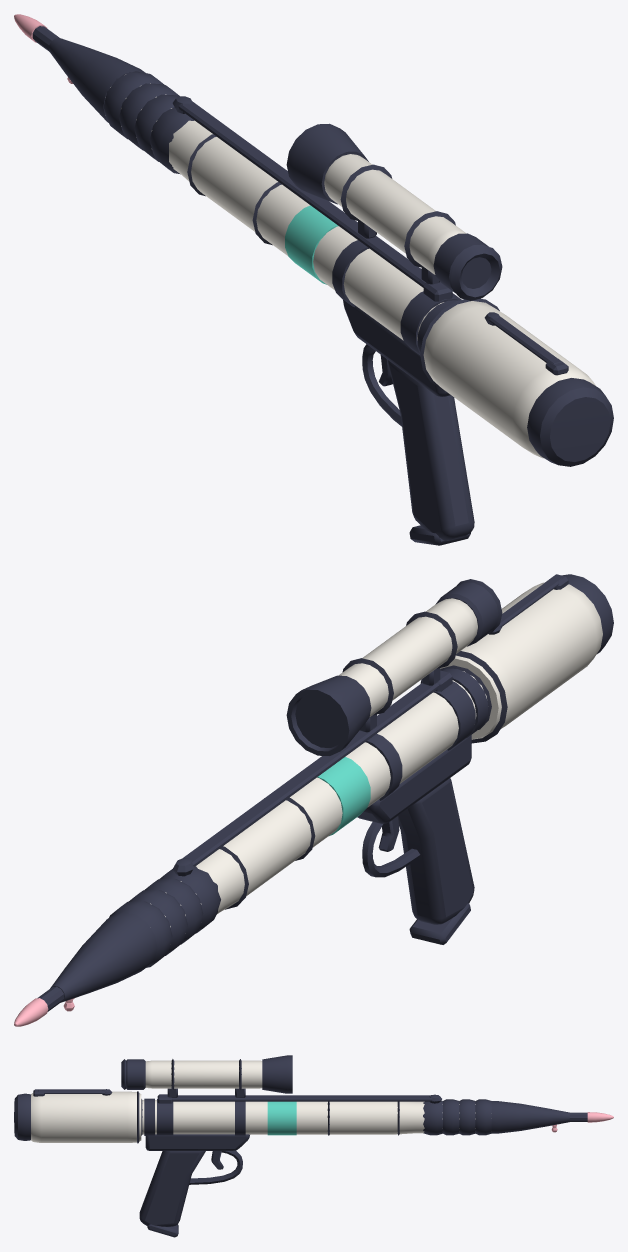
Rendered from weapon_fine_liner_prop.glb.
3 views of the same model, one above another, from view 1: azimuth 30°, elevation 25°; view 2: azimuth 150°, elevation 25°; view 3: azimuth 270°, elevation 25° (orthographic). The views are drawn at different scales.
Visible parts, largest first — view 1: FineLinerMesh; view 2: FineLinerMesh; view 3: FineLinerMesh.
Boxes of the visible parts, box(x1,y1,x2,y2) form: FineLinerMesh: box(14, 14, 613, 545); FineLinerMesh: box(14, 574, 613, 1026); FineLinerMesh: box(14, 1055, 613, 1237).
Size of the model in its own units: 0.092 by 0.3349 by 1.03.
